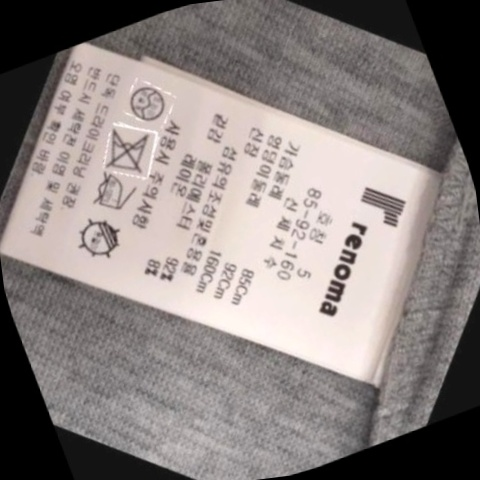DN_wash: (97, 120, 164, 181)
dry_clean_petrol_only: (122, 75, 175, 128)
iron_low: (83, 167, 143, 222)
line_dry_in_shade: (71, 209, 135, 267)
